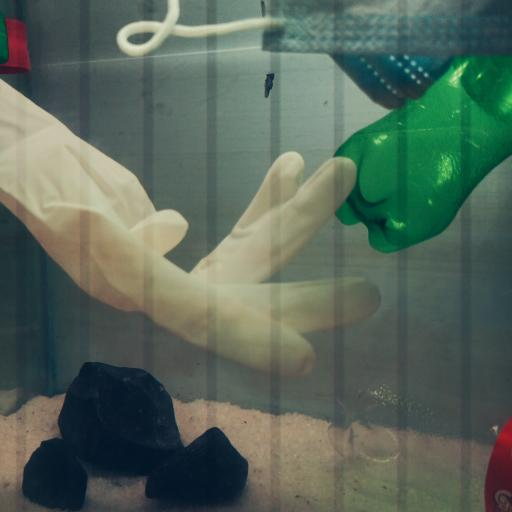bottle_cap: (0, 16, 33, 79)
glove: (0, 77, 381, 376)
mask: (116, 2, 512, 104)
plastic_bottle: (322, 52, 512, 254), (335, 392, 512, 512)
